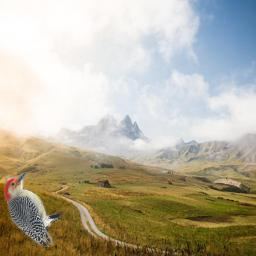Woodpecker: (4, 173, 62, 247)
